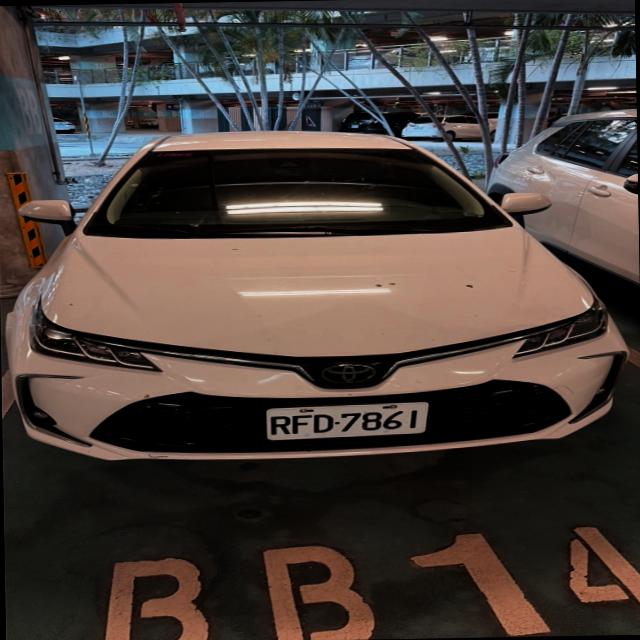license plate: (266, 401, 427, 442)
